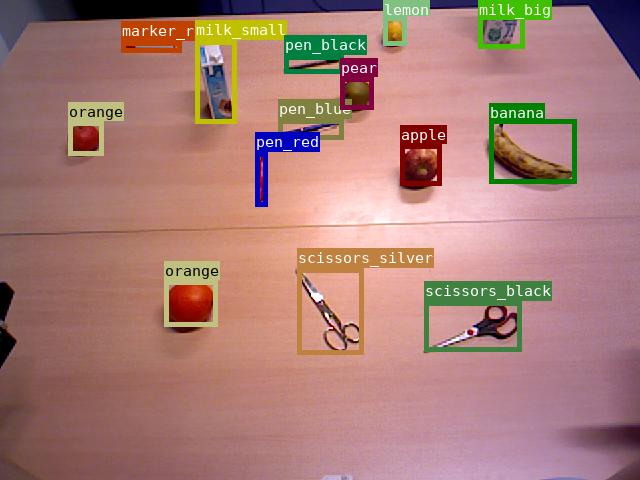apple: (400, 144, 441, 185)
banana: (489, 119, 576, 183)
lemon: (383, 16, 406, 45)
marker_red: (121, 41, 181, 52)
milk_big: (478, 0, 524, 48)
milk_small: (195, 40, 236, 123)
orange: (164, 280, 217, 326), (68, 121, 103, 155)
pear: (340, 77, 373, 109)
pen_black: (284, 55, 343, 73)
pen_blue: (278, 119, 343, 139)
pen_red: (255, 152, 267, 206)
scissors_black: (424, 301, 521, 351)
scissors_silver: (297, 268, 363, 354)
